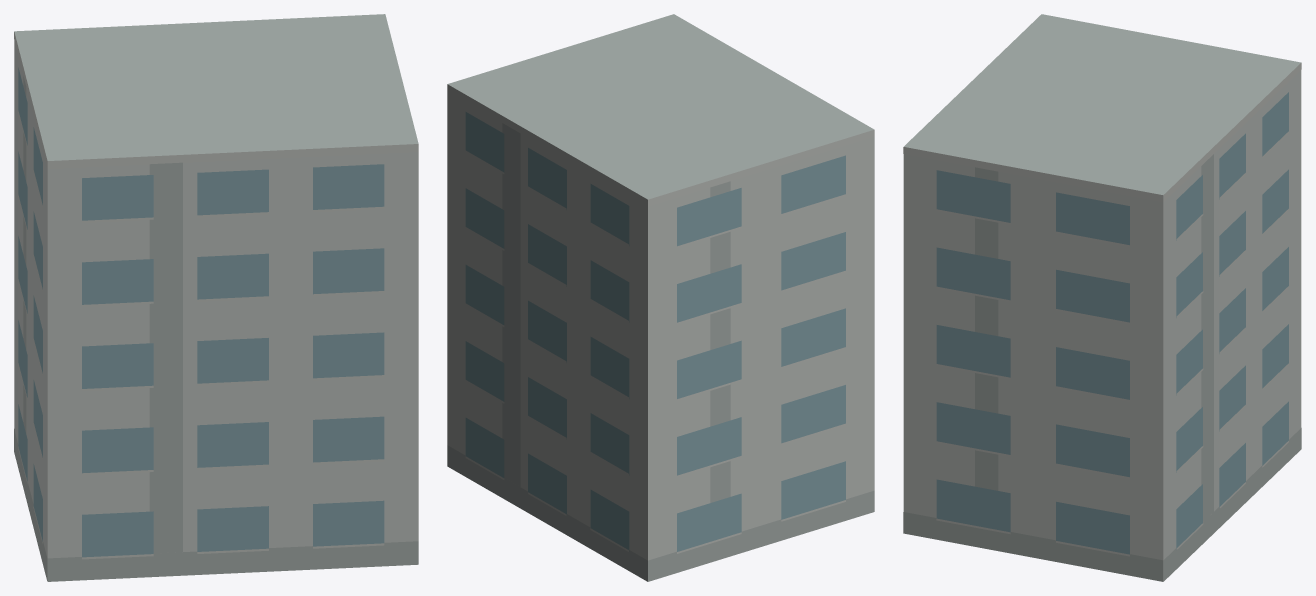
File: survey-upis-32531088.glb
3 views of the same model, side by side, from view 1: azimuth 30°, elevation 25°; view 2: azimuth 150°, elevation 25°; view 3: azimuth 270°, elevation 25° (orthographic). The views are drawn at different scales.
Visible parts, largest first — view 1: survey-upis-32531088.tmp; view 2: survey-upis-32531088.tmp; view 3: survey-upis-32531088.tmp.
Part boxes in pixels (box(x1,y1,x2,y2)): survey-upis-32531088.tmp: box(14, 14, 418, 581); survey-upis-32531088.tmp: box(447, 14, 874, 581); survey-upis-32531088.tmp: box(903, 14, 1301, 581).
Size of the model in its own units: 13.17 by 13.1 by 12.23.
